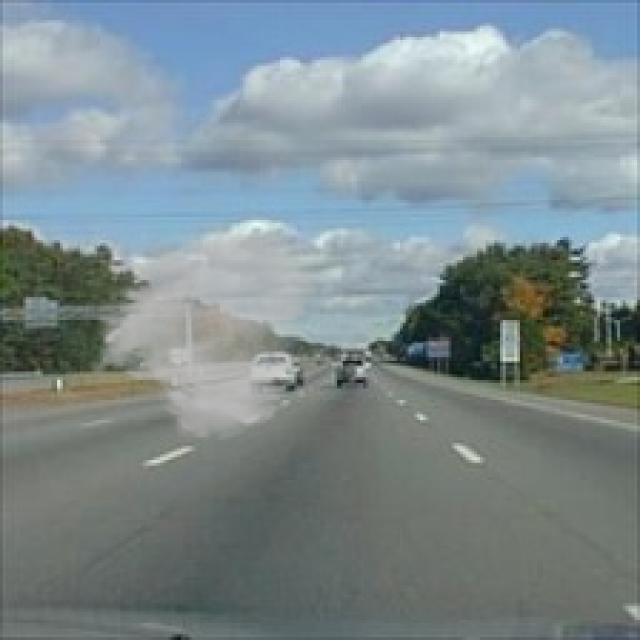smoke: (86, 228, 320, 443)
